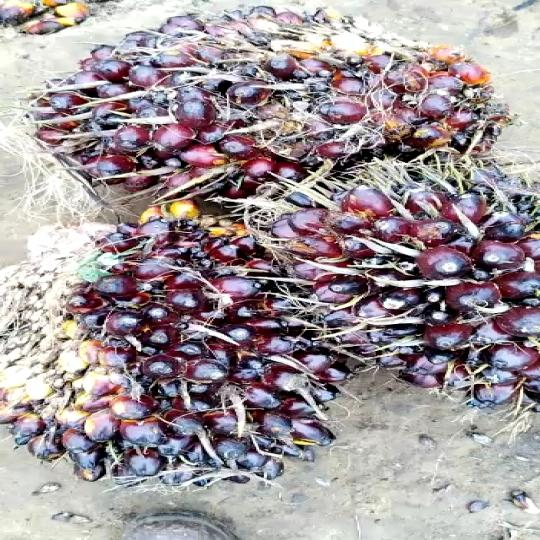kurang masak: (1, 204, 363, 498), (26, 6, 508, 213), (247, 175, 540, 406)
